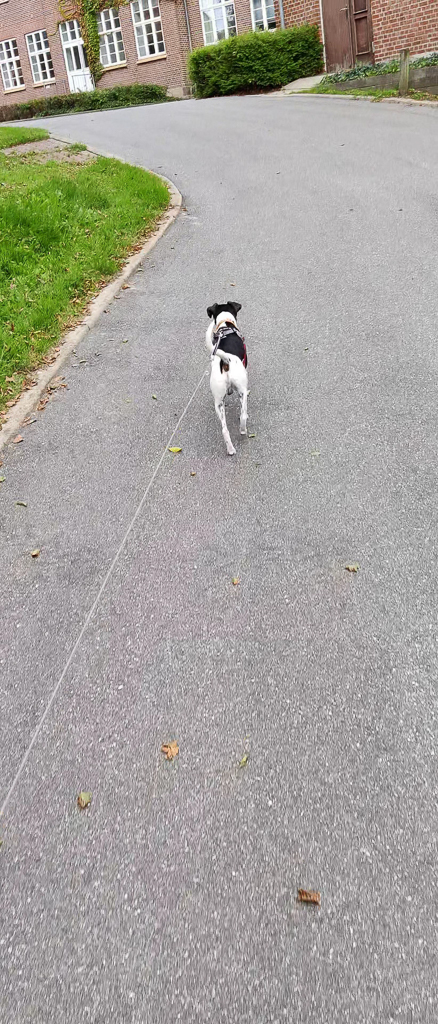Dog: (184, 288, 270, 474)
